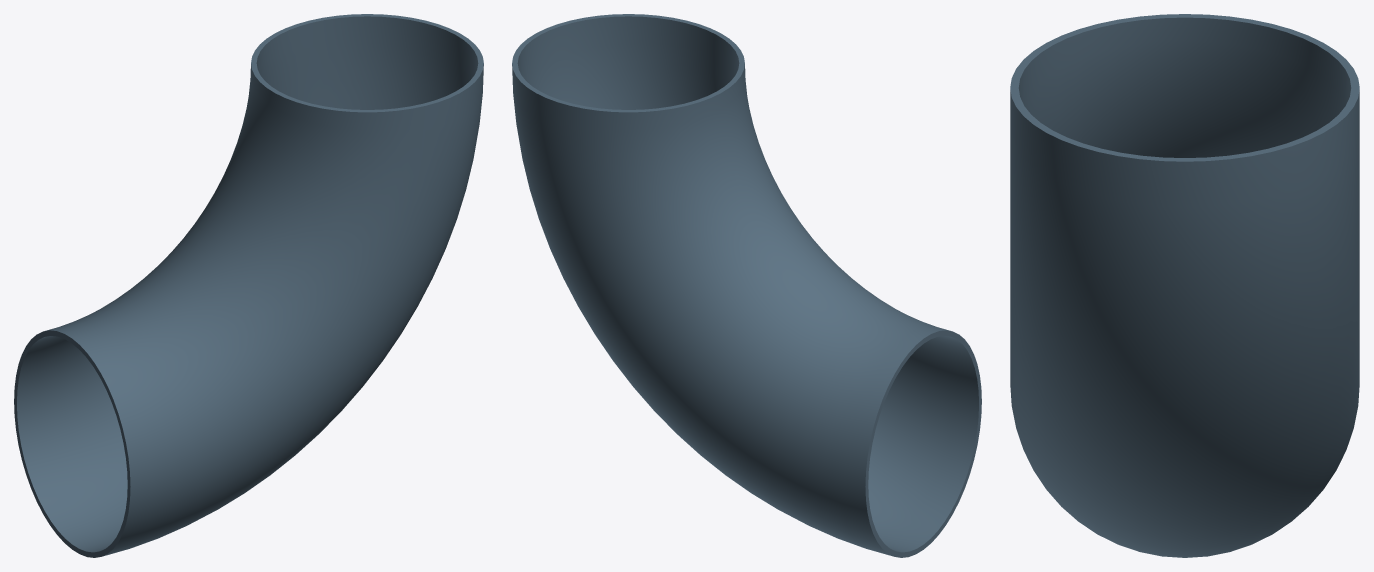
File: otvod-90-820x20-R1200.glb
The picture shows the model from 3 angles, left to right: view 1: azimuth 30°, elevation 25°; view 2: azimuth 150°, elevation 25°; view 3: azimuth 270°, elevation 25°; orthographic projection. The views are drawn at different scales.
Visible parts, largest first — view 1: Open CASCADE STEP translator 7.9 114; view 2: Open CASCADE STEP translator 7.9 114; view 3: Open CASCADE STEP translator 7.9 114.
Part boxes in pixels (x1,y1,x2,y2): Open CASCADE STEP translator 7.9 114: (14, 14, 483, 557); Open CASCADE STEP translator 7.9 114: (512, 14, 981, 557); Open CASCADE STEP translator 7.9 114: (1010, 14, 1359, 557).
Size of the model in its own units: 1610 by 1610 by 820.
